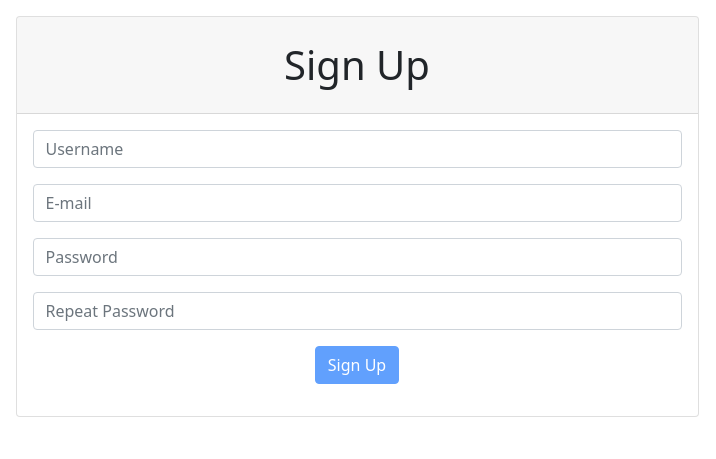
Scenario: Sign Up Page › Interactions › displays E-mail cannot be null for $fields
Type "pepito1" into the field with placeholder "Username" at [357, 149], box [32, 130, 682, 168]
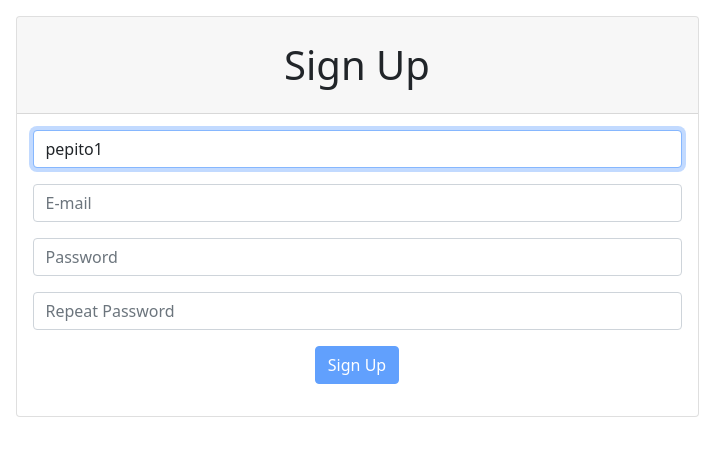
Type "pepito1@mail.com" into the field with placeholder "E-mail" at [357, 203], box [32, 184, 682, 222]
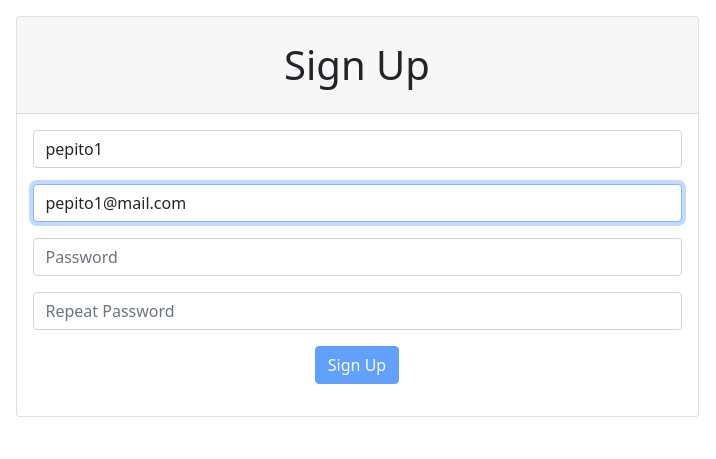
Type "p4ssword" into the password field with placeholder "Password" at [357, 257], box [32, 238, 682, 276]
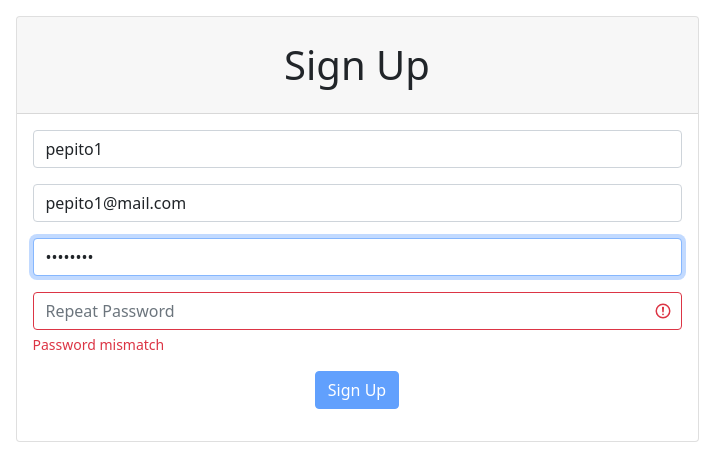
Type "p4ssword" into the password field with placeholder "Repeat Password" at [357, 311], box [32, 292, 682, 330]
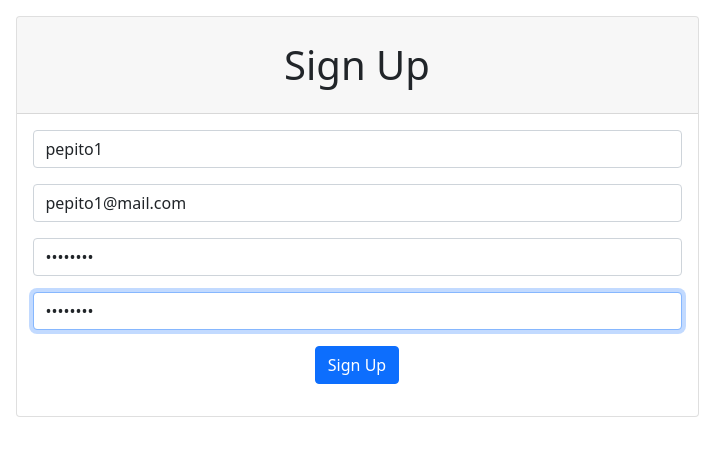
Click the button "Sign Up" at [357, 365], box [315, 346, 399, 384]
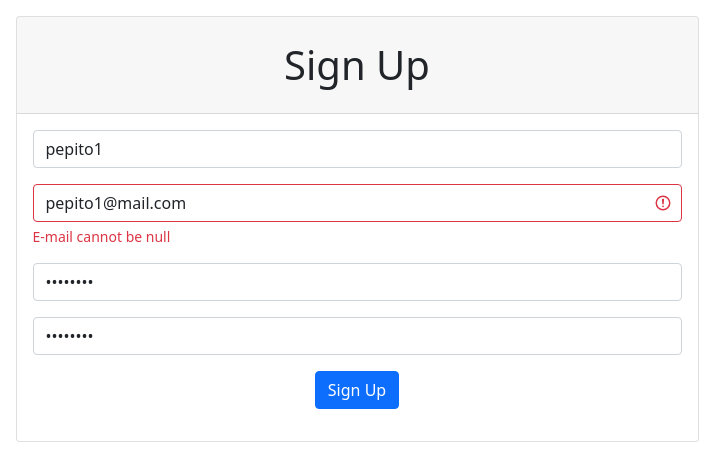
Check: the text "E-mail cannot be null" is shown, box [32, 227, 170, 246]
